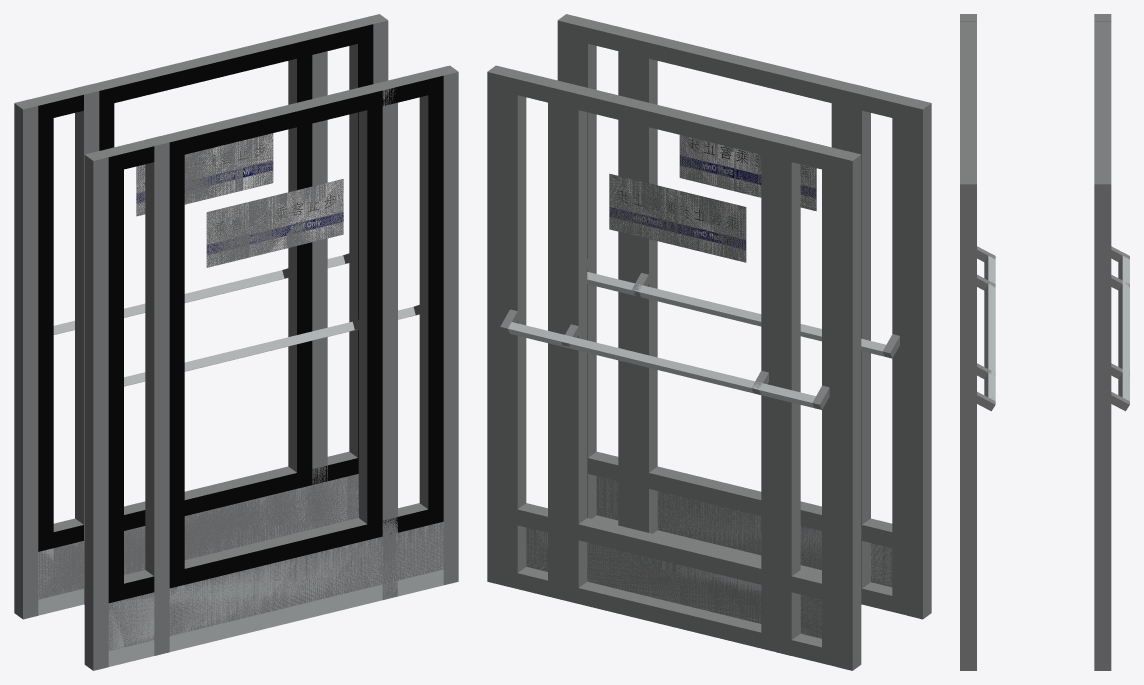
Rendered from bj_duanmen_qg_1.obj.
3 views of the same model, side by side, from view 1: azimuth 30°, elevation 25°; view 2: azimuth 150°, elevation 25°; view 3: azimuth 270°, elevation 25° (orthographic). The views are drawn at different scales.
Parts seen in each view (by area): view 1: door_s_left, door_s_right, door_right, door_left, main_s_right, main_s_left, main_right, main_left; view 2: door_right, door_left, door_s_right, door_s_left, main_right, main_left, main_s_right, main_s_left; view 3: main_left, main_s_left, door_right, door_left, door_s_left, door_s_right.
Boxes of the visible parts, left/top/right/bottom form: door_s_left: left=163, top=69, right=450, bottom=651; door_s_right: left=100, top=84, right=389, bottom=666; door_right: left=30, top=34, right=319, bottom=615; door_left: left=91, top=17, right=380, bottom=574; main_s_right: left=84, top=80, right=397, bottom=670; main_s_left: left=145, top=65, right=458, bottom=655; main_right: left=14, top=31, right=327, bottom=619; main_left: left=75, top=14, right=388, bottom=604; door_right: left=560, top=82, right=845, bottom=666; door_left: left=499, top=67, right=783, bottom=651; door_s_right: left=631, top=31, right=915, bottom=615; door_s_left: left=572, top=17, right=851, bottom=569; main_right: left=548, top=80, right=861, bottom=670; main_left: left=487, top=65, right=800, bottom=655; main_s_right: left=618, top=29, right=931, bottom=619; main_s_left: left=557, top=14, right=870, bottom=604; main_left: left=1094, top=42, right=1111, bottom=670; main_s_left: left=960, top=42, right=976, bottom=670; door_right: left=1094, top=21, right=1129, bottom=378; door_left: left=1094, top=49, right=1129, bottom=411; door_s_left: left=960, top=49, right=995, bottom=411; door_s_right: left=960, top=21, right=995, bottom=378.
Bounding box in the file's own units: 1.5 × 2 × 0.6326.
Materials: 4 (4 with a texture image).
